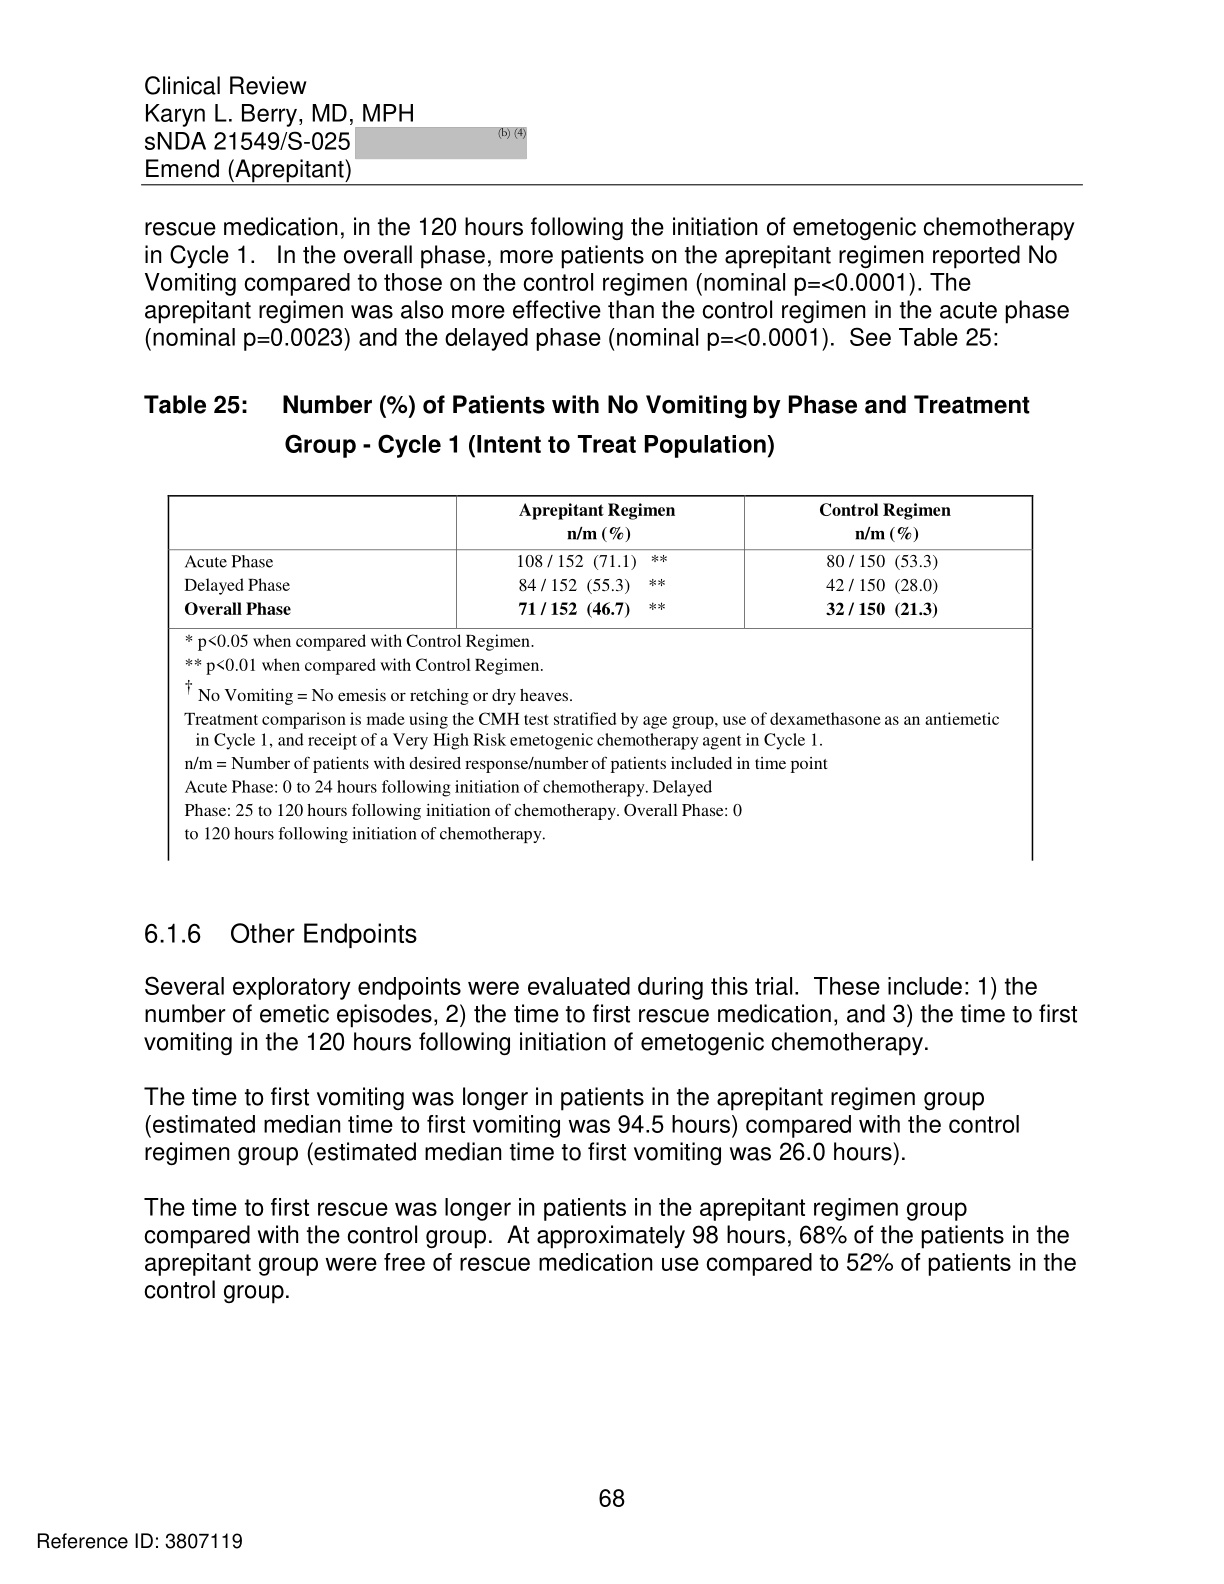partial_lined_merged_cells: (165, 492, 1034, 863)
